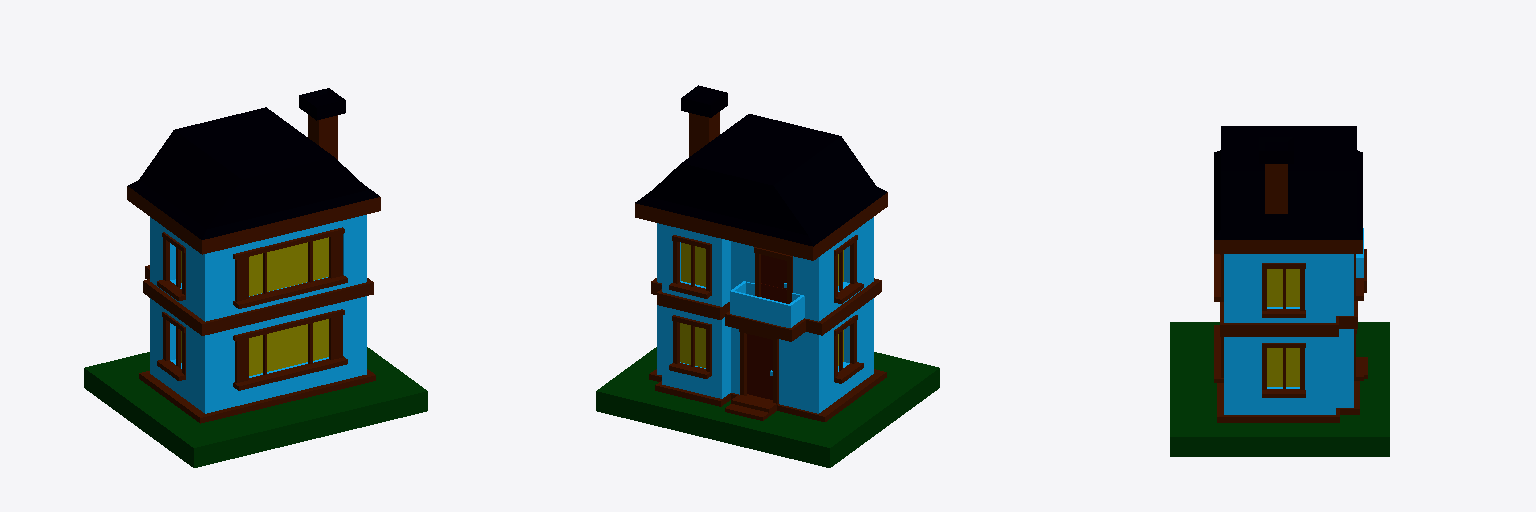
Rendered from BlockHouse4.obj.
3 views of the same model, side by side, from view 1: azimuth 30°, elevation 25°; view 2: azimuth 150°, elevation 25°; view 3: azimuth 270°, elevation 25° (orthographic).
Parts seen in each view (by area): view 1: Cube, Cube.006, Cube.001, Cube.012, Cube.011, Cube.007, Cube.009, Cube.008, Cube.005; view 2: Cube, Cube.006, Cube.001, Cube.007, Cube.004, Cube.002, Cube.003, Cube.009, Cube.008, Cube.014; view 3: Cube, Cube.006, Cube.001, Cube.007, Cube.008, Cube.009, Cube.012.
Boxes of the visible parts, x1=… form: Cube: x1=139, y1=215, x2=375, y2=423; Cube.006: x1=127, y1=107, x2=380, y2=254; Cube.001: x1=84, y1=347, x2=427, y2=467; Cube.012: x1=233, y1=309, x2=347, y2=390; Cube.011: x1=233, y1=227, x2=347, y2=308; Cube.007: x1=299, y1=88, x2=345, y2=159; Cube.009: x1=157, y1=312, x2=185, y2=380; Cube.008: x1=157, y1=232, x2=185, y2=300; Cube.005: x1=263, y1=241, x2=312, y2=374; Cube: x1=649, y1=217, x2=886, y2=421; Cube.006: x1=635, y1=114, x2=887, y2=260; Cube.001: x1=596, y1=347, x2=939, y2=467; Cube.007: x1=681, y1=85, x2=727, y2=156; Cube.004: x1=725, y1=329, x2=778, y2=420; Cube.002: x1=669, y1=315, x2=711, y2=378; Cube.003: x1=669, y1=235, x2=711, y2=298; Cube.009: x1=834, y1=315, x2=863, y2=383; Cube.008: x1=834, y1=235, x2=863, y2=303; Cube.014: x1=754, y1=247, x2=792, y2=303; Cube: x1=1217, y1=228, x2=1366, y2=422; Cube.006: x1=1214, y1=126, x2=1362, y2=253; Cube.001: x1=1170, y1=322, x2=1389, y2=456; Cube.007: x1=1259, y1=137, x2=1293, y2=213; Cube.008: x1=1262, y1=263, x2=1305, y2=317; Cube.009: x1=1262, y1=343, x2=1305, y2=397; Cube.012: x1=1214, y1=325, x2=1223, y2=382.
Size of the model in its own units: 24.32 by 28.51 by 19.78.